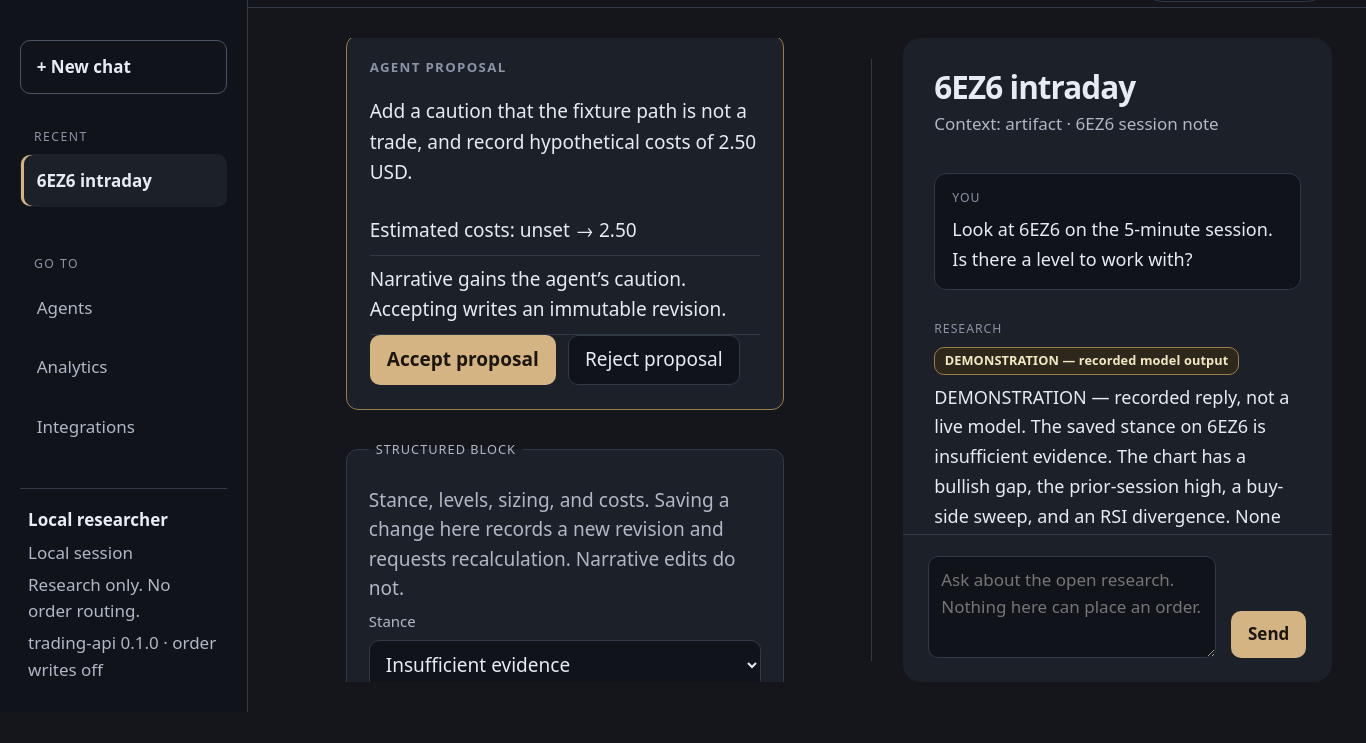
it: agent proposals › rejects a proposal without changing the draft or revisions
(page scrolled)
Click the button "Reject proposal" at point(654, 360), box x1=568 y1=335 x2=740 y2=385
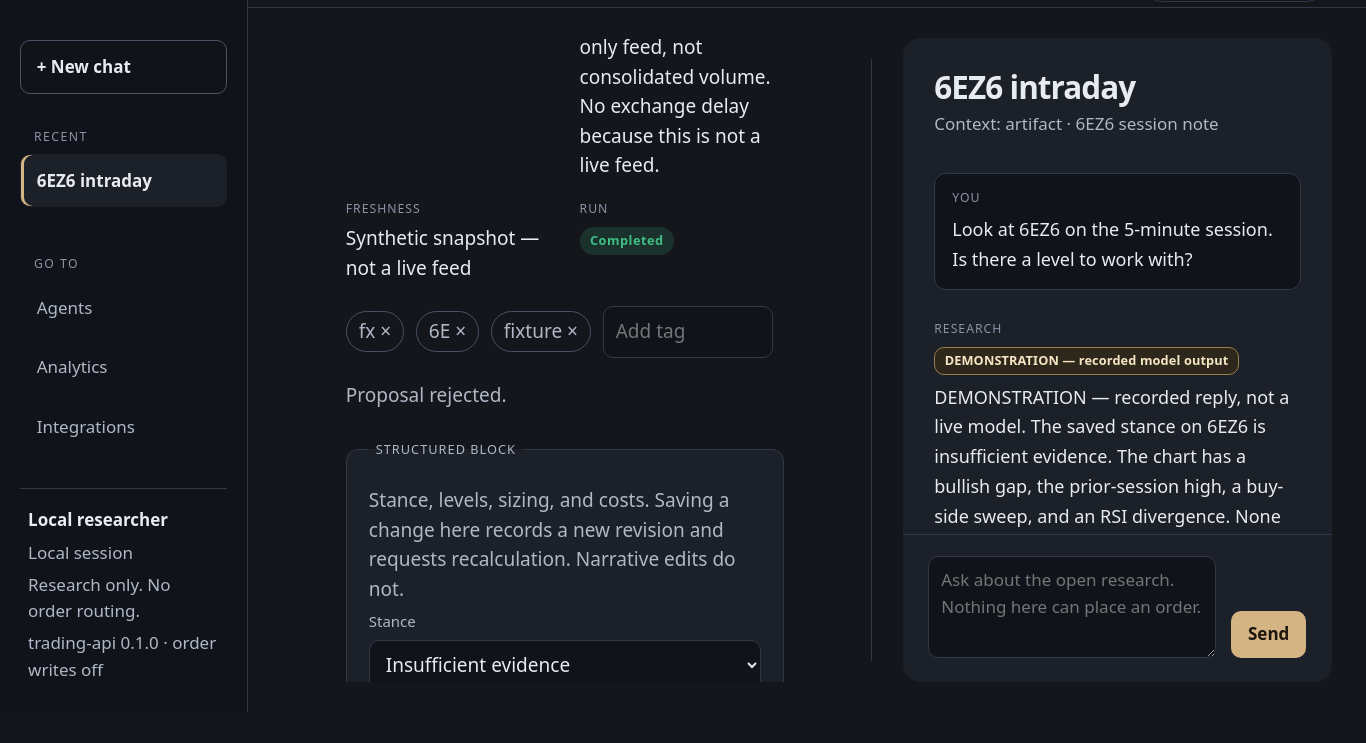
expect the text "Proposal rejected." is shown: met, box x1=346 y1=382 x2=507 y2=408
